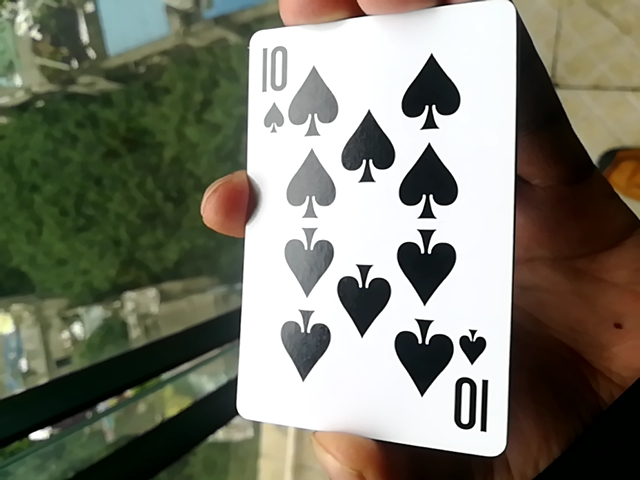ht 10: (245, 0, 506, 458)
